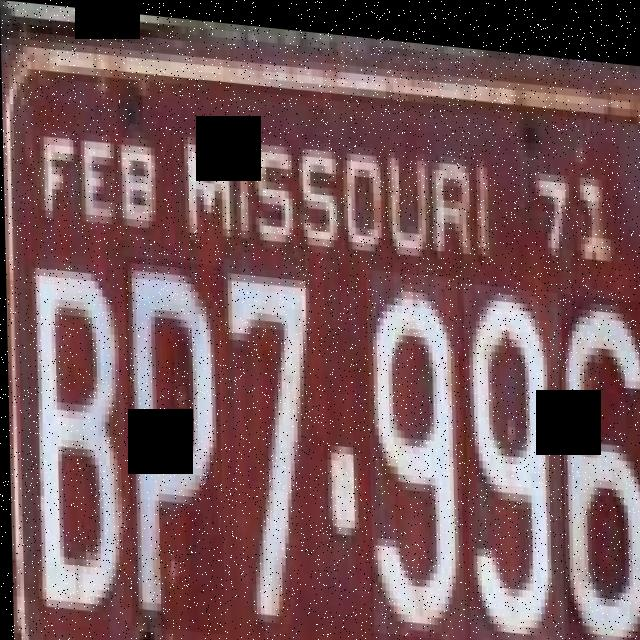6: (560, 281, 640, 640)
7: (222, 254, 316, 626)
9: (463, 273, 563, 638), (365, 261, 462, 632)
B: (28, 250, 128, 630)
P: (123, 254, 223, 630)
